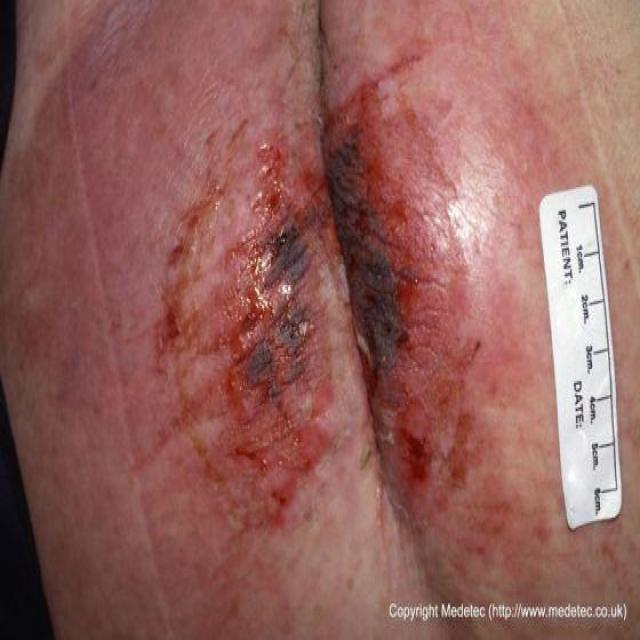DTI: (330, 82, 480, 551), (225, 146, 341, 519)
